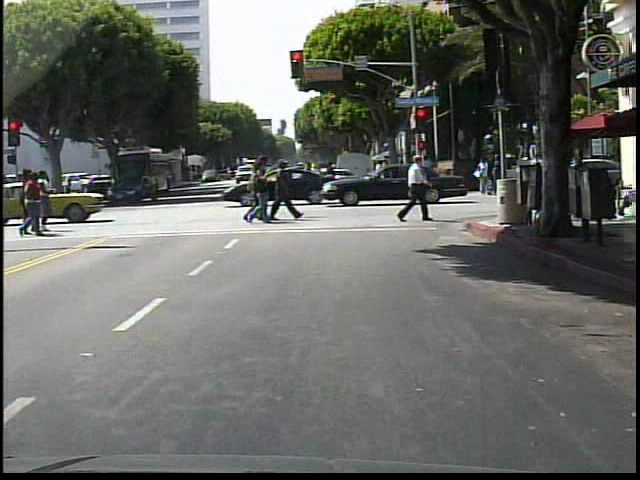person: (393, 145, 436, 230)
